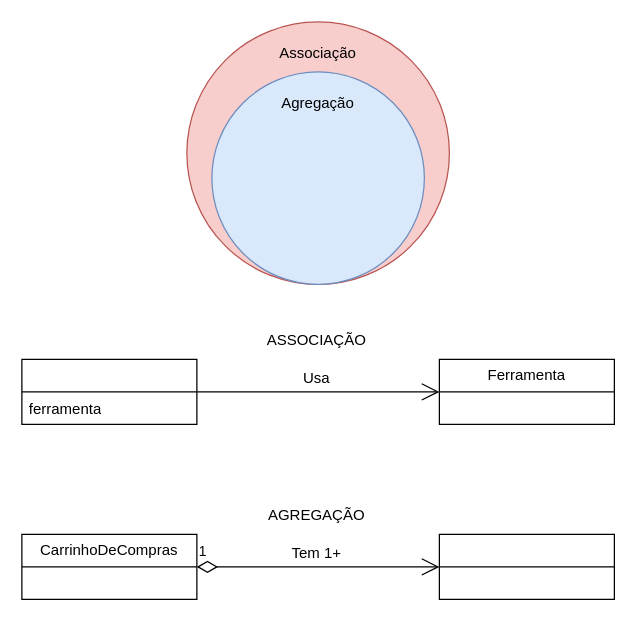
Image size: 636x621. Some labels were removed from this diagram. The shapes that lost their labels are listed below. From the top down, each one's box as (x1, y1, x2, y2) in pixels, then its label:
(21, 358, 197, 424): Escritor
(438, 533, 614, 599): Produto
